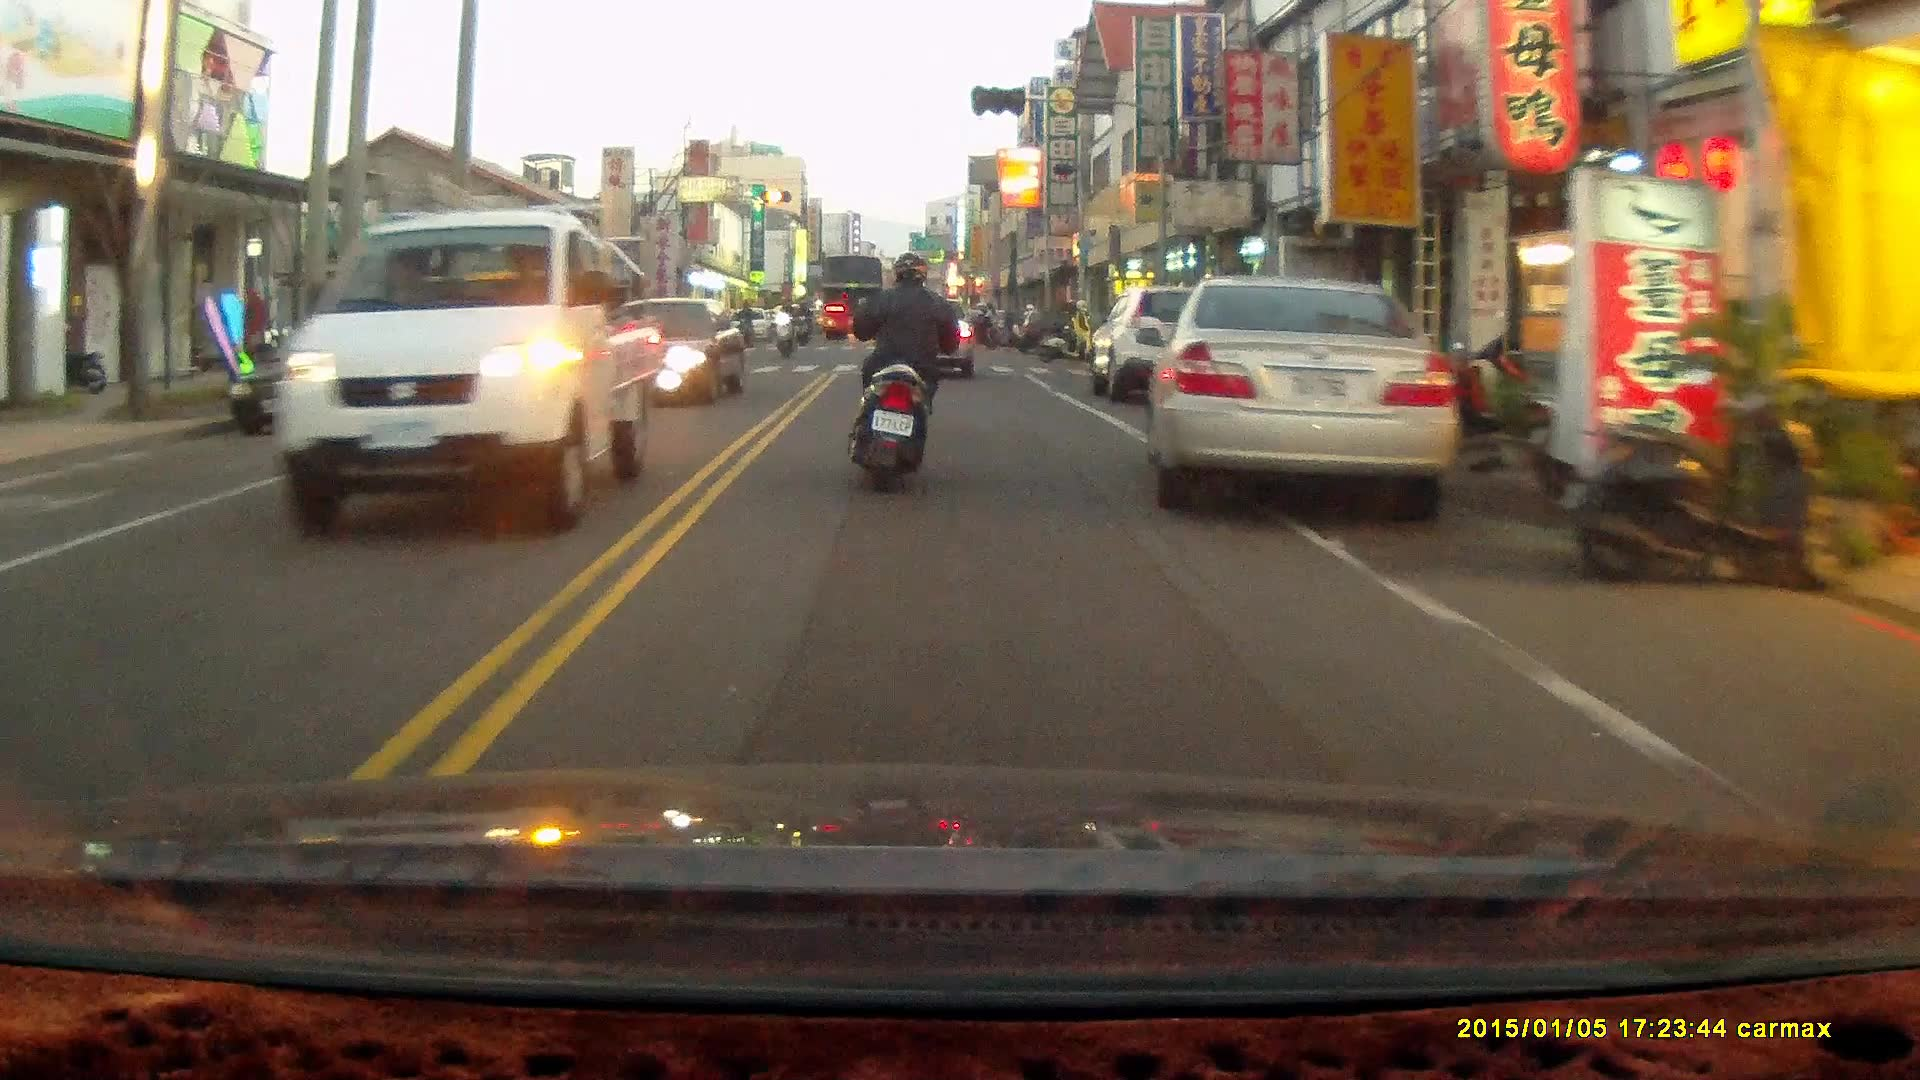pedestrian: (1067, 295, 1090, 367)
rider: (843, 253, 970, 494), (771, 298, 797, 361), (793, 295, 814, 347)
vehicle: (278, 206, 662, 535), (1144, 273, 1455, 524), (232, 316, 430, 437), (1084, 284, 1249, 407), (618, 295, 745, 404), (818, 250, 890, 335)
